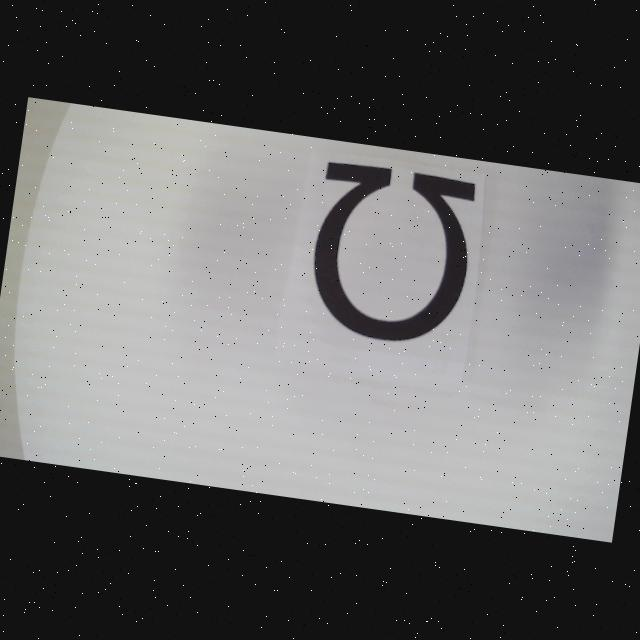OMEGA: (304, 161, 478, 350)
